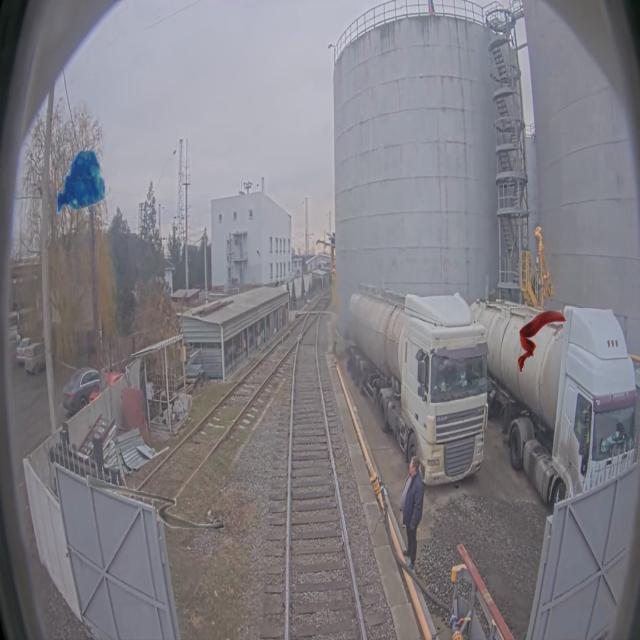floating object: (85, 470, 225, 534), (517, 310, 567, 374)
plastic bag: (56, 150, 108, 214)
